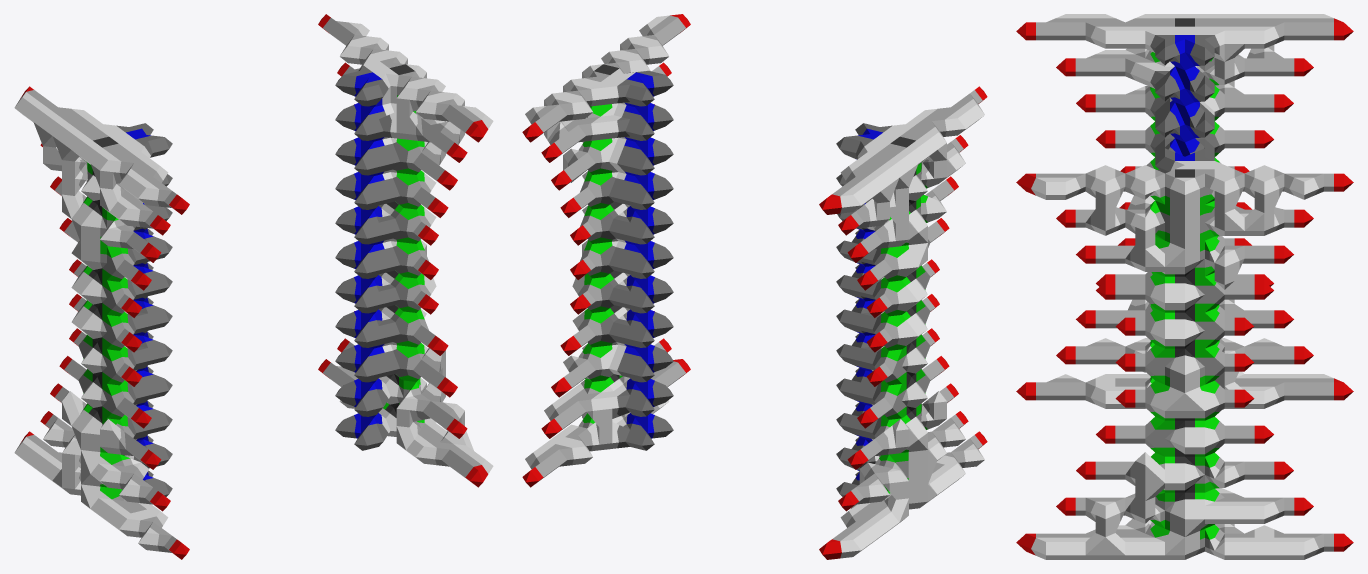
The model's file is obj_auron_bophose_spatialgate.fbx.
3 views of the same model, side by side, from view 1: azimuth 30°, elevation 25°; view 2: azimuth 150°, elevation 25°; view 3: azimuth 270°, elevation 25° (orthographic). The views are drawn at different scales.
Visible parts, largest first — view 1: obj_auron_bophose_spatialgate; view 2: obj_auron_bophose_spatialgate; view 3: obj_auron_bophose_spatialgate.
Boxes of the visible parts, left/top/right/bottom form: obj_auron_bophose_spatialgate: left=14, top=14, right=493, bottom=559; obj_auron_bophose_spatialgate: left=522, top=14, right=987, bottom=559; obj_auron_bophose_spatialgate: left=1016, top=14, right=1353, bottom=559.
Bounding box in the file's own units: 2100 × 2100 × 1700.
